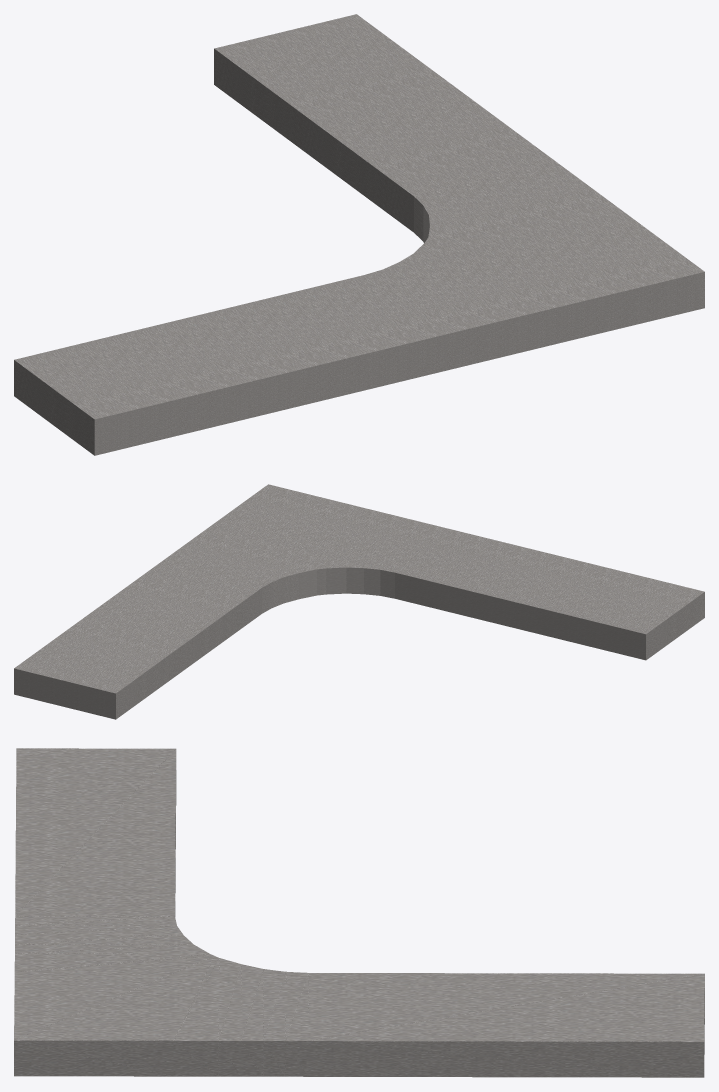
The model's file is Gehweg_rund_innen.fbx.
3 views of the same model, one above another, from view 1: azimuth 30°, elevation 25°; view 2: azimuth 150°, elevation 25°; view 3: azimuth 270°, elevation 25° (orthographic). The views are drawn at different scales.
Parts seen in each view (by area): view 1: Cube.001; view 2: Cube.001; view 3: Cube.001.
Part boxes in pixels (x1=…): Cube.001: x1=14, y1=14, x2=704, y2=455; Cube.001: x1=14, y1=484, x2=704, y2=719; Cube.001: x1=14, y1=748, x2=704, y2=1077.
Bounding box in the file's own units: 1171 × 1165 × 66.51.
1 material, 1 textured.
